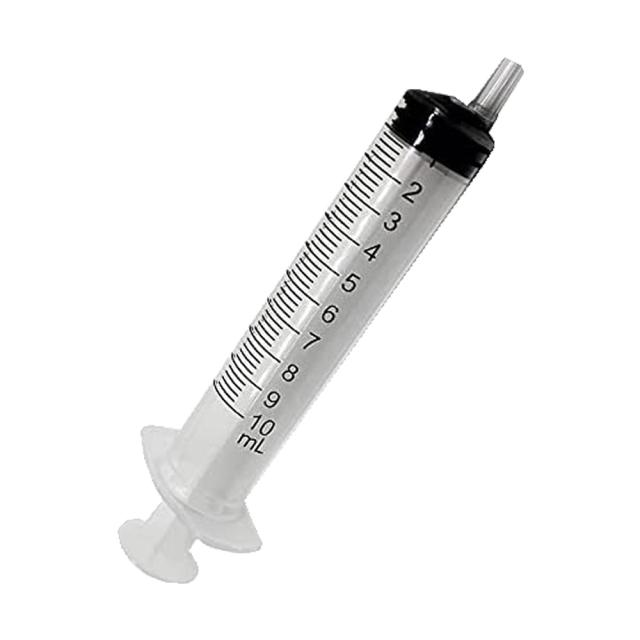syringe: (116, 55, 525, 584)
